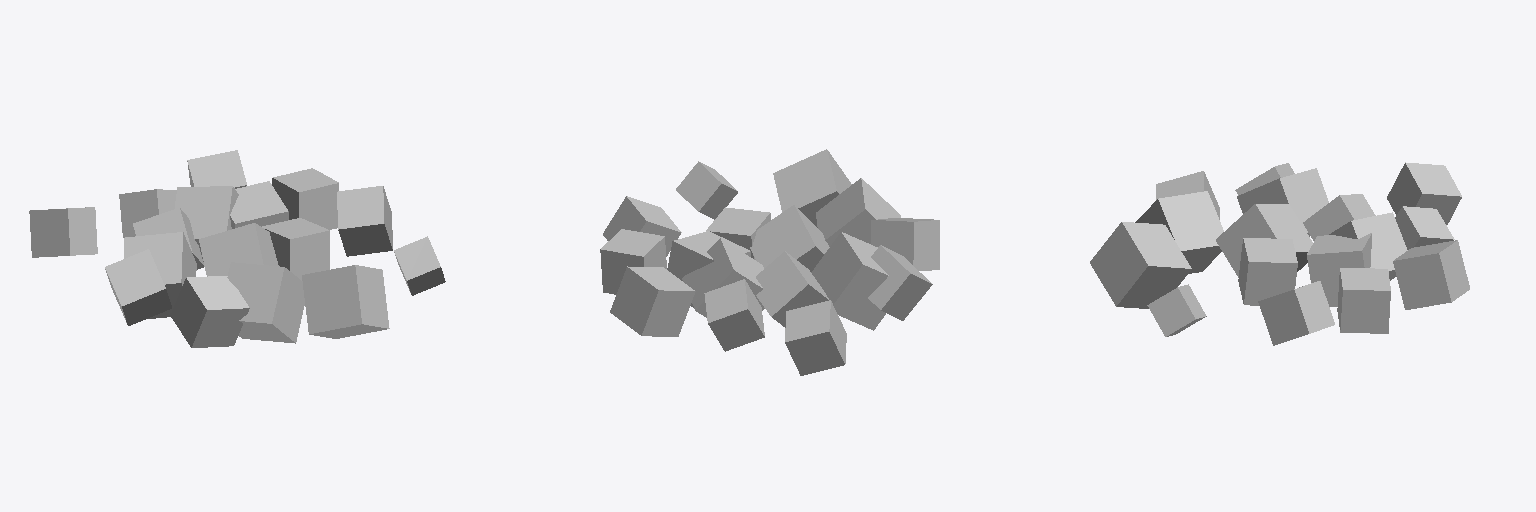
The model's file is rock_ore.obj.
The picture shows the model from 3 angles: view 1: azimuth 30°, elevation 25°; view 2: azimuth 150°, elevation 25°; view 3: azimuth 270°, elevation 25°; orthographic projection.
Parts seen in each view (by area): view 1: Cube.003, Cube.005, Cube.004, Cube.001, Cube.007, Cube.008, Cube.014, Cube, Cube.006, Cube.011, Cube.015, Cube.012 (+4 smaller); view 2: Cube.011, Cube.013, Cube.008, Cube.003, Cube.009, Cube.006, Cube.005, Cube.010, Cube.004, Cube.015, Cube.007, Cube.014 (+4 smaller); view 3: Cube.003, Cube.013, Cube.005, Cube.014, Cube, Cube.006, Cube.001, Cube.008, Cube.012, Cube.011, Cube.015, Cube.002 (+4 smaller).
Boxes of the visible parts, x1,y1,x2,y2 form: Cube.003: [302, 265, 389, 338]; Cube.005: [227, 262, 304, 343]; Cube.004: [170, 276, 249, 347]; Cube.001: [337, 186, 392, 256]; Cube.007: [105, 249, 171, 325]; Cube.008: [29, 207, 97, 257]; Cube.014: [272, 168, 338, 229]; Cube: [262, 218, 329, 280]; Cube.006: [199, 223, 278, 276]; Cube.011: [124, 232, 196, 318]; Cube.015: [175, 186, 238, 261]; Cube.012: [230, 181, 288, 228]; Cube.011: [811, 232, 888, 330]; Cube.013: [610, 266, 695, 336]; Cube.008: [785, 300, 846, 375]; Cube.003: [773, 149, 851, 227]; Cube.009: [704, 279, 764, 351]; Cube.006: [750, 205, 829, 271]; Cube.005: [816, 178, 900, 246]; Cube.010: [756, 251, 828, 327]; Cube.004: [871, 218, 939, 270]; Cube.015: [682, 238, 764, 317]; Cube.007: [868, 245, 932, 320]; Cube.014: [600, 229, 666, 294]; Cube.003: [1090, 222, 1191, 308]; Cube.013: [1393, 240, 1469, 309]; Cube.005: [1135, 191, 1223, 273]; Cube.014: [1337, 268, 1390, 333]; Cube: [1238, 238, 1297, 305]; Cube.006: [1216, 204, 1312, 277]; Cube.001: [1258, 281, 1334, 345]; Cube.008: [1387, 162, 1461, 224]; Cube.012: [1307, 233, 1371, 306]; Cube.011: [1237, 168, 1328, 236]; Cube.015: [1329, 212, 1407, 280]; Cube.002: [1147, 284, 1206, 336].
Bounding box in the file's own units: 2.52 × 0.7305 × 2.76.